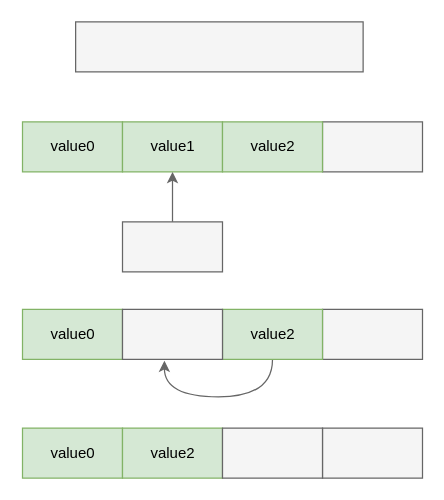
Some shapes in this 444 by 500 pixel diagram are drawn without their labels. Each missing label, with the centre of its shape:
erase(): the point at 171,246
std::vector::erase(): the point at 218,46
